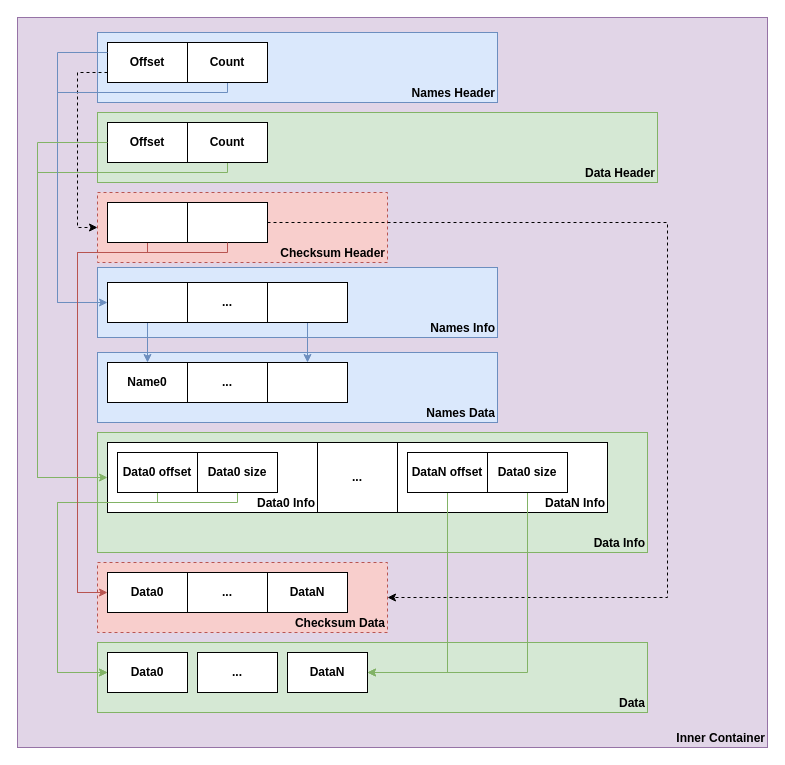
This 785x765 diagram has some shape labels left out. The centre of each missing label's shape, as x and y in pixels:
Begin: the point at 227,222
End: the point at 147,222
Name0 offset: the point at 147,302
NameN: the point at 307,382
NameN offset: the point at 307,302
